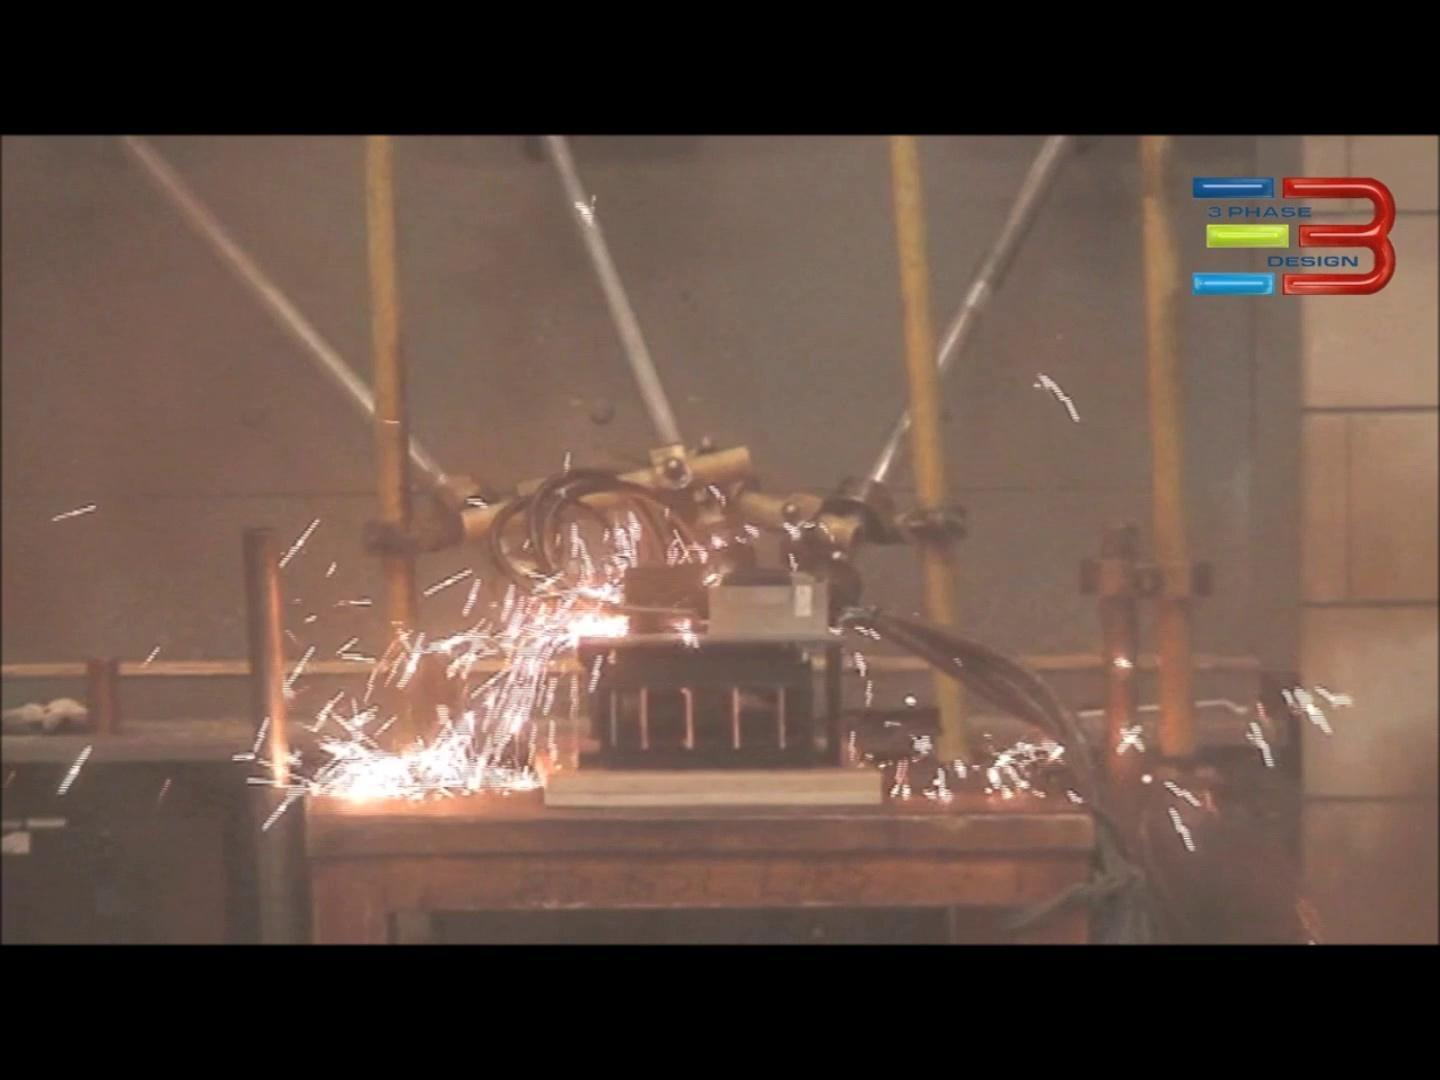fire: (144, 512, 1233, 816)
